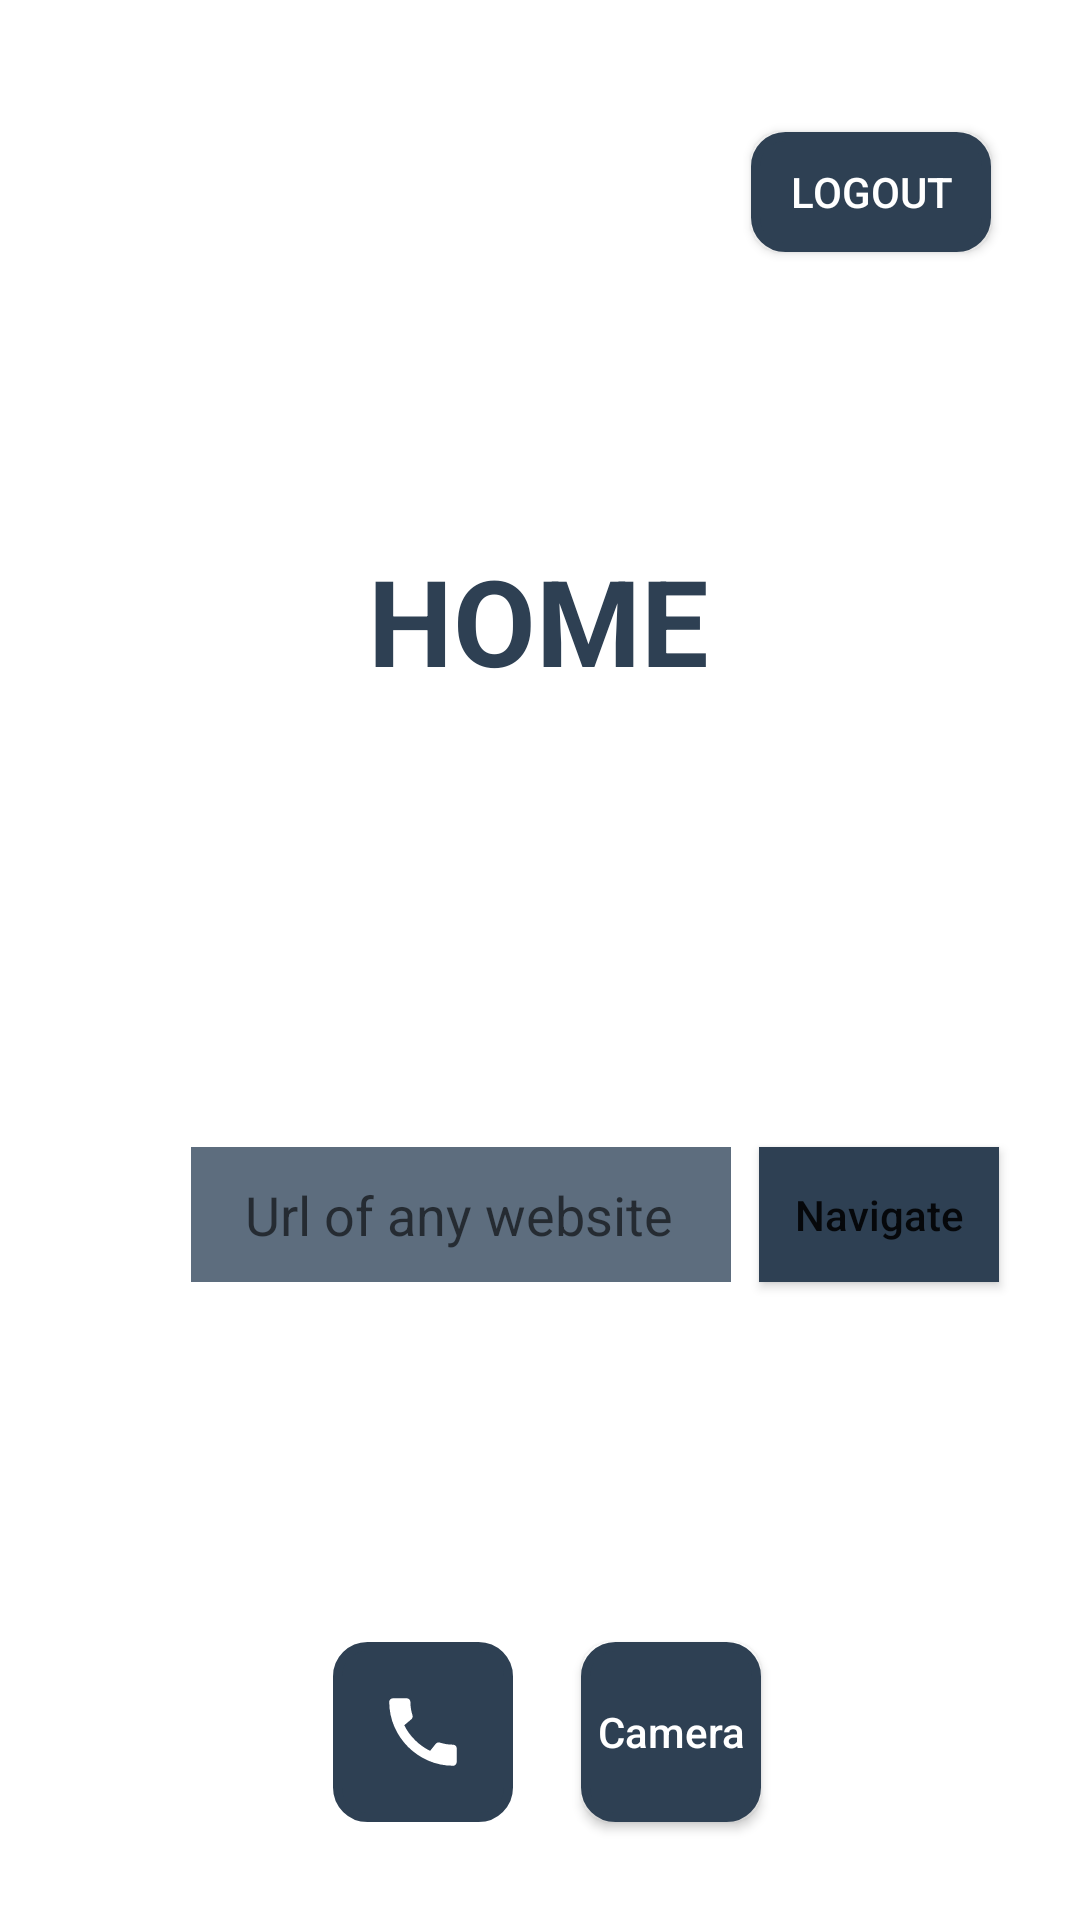

Point at icon controls on the screen. Image size 1080 x 1920, points as (x,y).
call: (423,1732)
